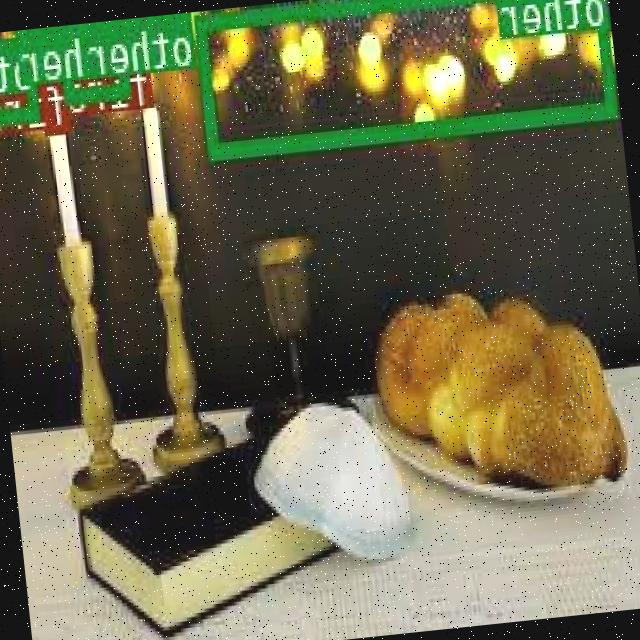fire: (42, 70, 72, 129), (130, 47, 156, 105)
